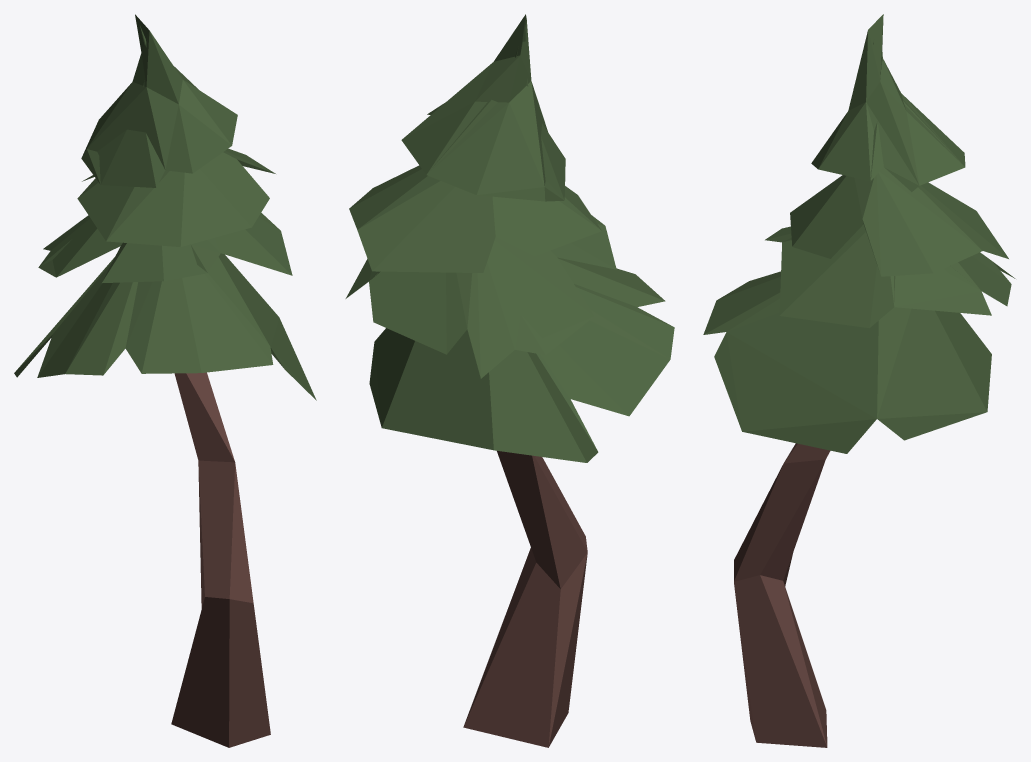
File: pine-tree-4.gltf
3 views of the same model, side by side, from view 1: azimuth 30°, elevation 25°; view 2: azimuth 150°, elevation 25°; view 3: azimuth 270°, elevation 25° (orthographic). The views are drawn at different scales.
Visible parts, largest first — view 1: PineTree_4_Cylinder.027; view 2: PineTree_4_Cylinder.027; view 3: PineTree_4_Cylinder.027.
Part boxes in pixels (bbox=[...]): PineTree_4_Cylinder.027: bbox=[14, 14, 316, 747]; PineTree_4_Cylinder.027: bbox=[345, 14, 674, 747]; PineTree_4_Cylinder.027: bbox=[703, 14, 1015, 747].
Bounding box in the file's own units: 0.0125 × 0.0335 × 0.0137.
